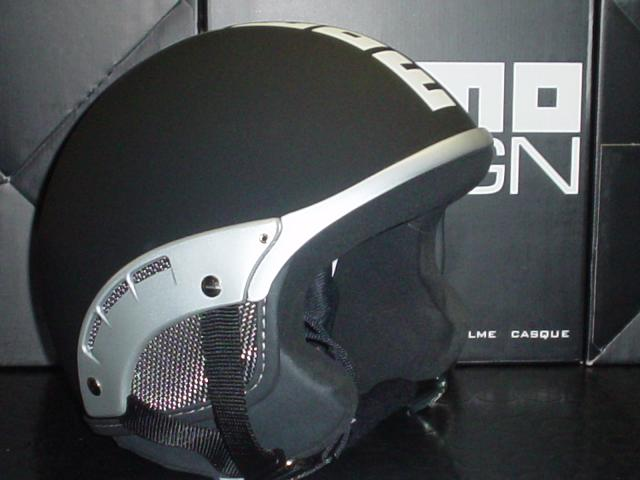helmet: (37, 50, 479, 422)
